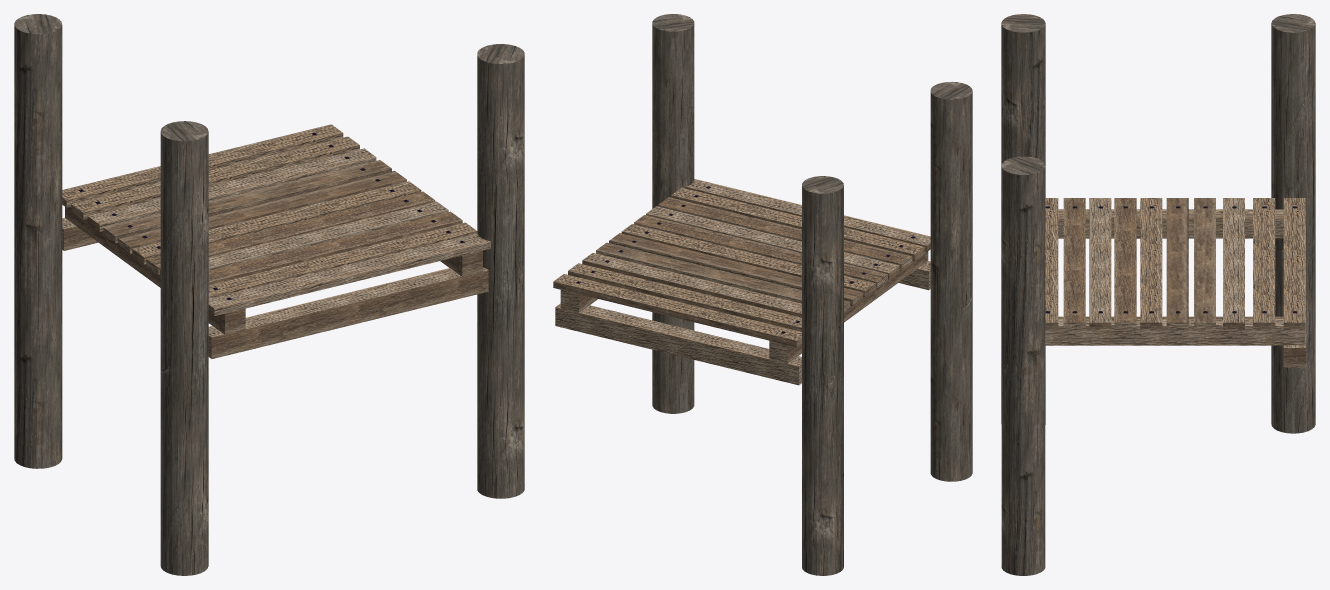
The model's file is Plataforma madera 4to C.fbx.
3 views of the same model, side by side, from view 1: azimuth 30°, elevation 25°; view 2: azimuth 150°, elevation 25°; view 3: azimuth 270°, elevation 25° (orthographic). The views are drawn at different scales.
Parts seen in each view (by area): view 1: Soporte_Piso, Piso Maderas 4x4, Poste_6, Viga; view 2: Piso Maderas 4x4, Soporte_Piso, Poste_6, Viga; view 3: Piso Maderas 4x4, Soporte_Piso, Poste_6, Viga.
Part boxes in pixels (<box>): Soporte_Piso: <box>160,44,524,575</box>; Piso Maderas 4x4: <box>62,124,490,334</box>; Poste_6: <box>14,14,62,468</box>; Viga: <box>62,217,97,250</box>; Piso Maderas 4x4: <box>553,179,930,363</box>; Soporte_Piso: <box>652,14,972,481</box>; Poste_6: <box>802,176,843,575</box>; Viga: <box>555,303,801,385</box>; Piso Maderas 4x4: <box>1045,198,1305,345</box>; Soporte_Piso: <box>1001,14,1045,575</box>; Poste_6: <box>1271,14,1315,433</box>; Viga: <box>1283,223,1305,367</box>.
Bounding box in the file's own units: 517 × 600 × 426.
3 materials, 2 textured.
